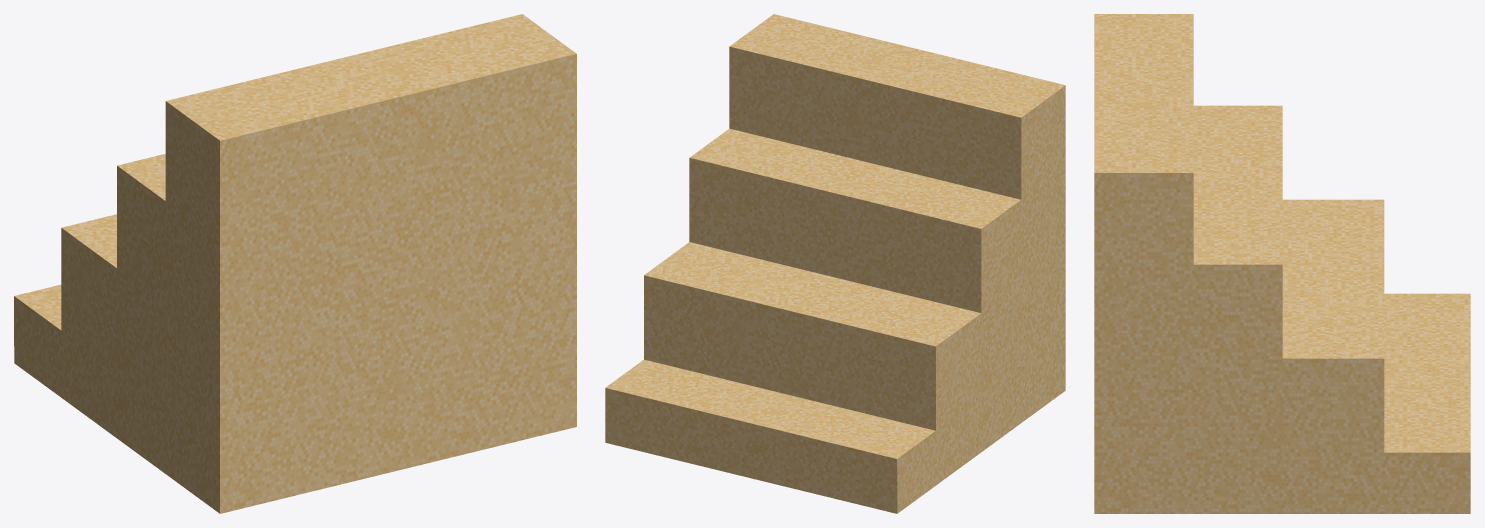
File: POL0510011.fbx
3 renders of one model, left to right at view 1: azimuth 30°, elevation 25°; view 2: azimuth 150°, elevation 25°; view 3: azimuth 270°, elevation 25°, orthographic. The views are drawn at different scales.
Parts seen in each view (by area): view 1: smPOL0510011; view 2: smPOL0510011; view 3: smPOL0510011.
Part boxes in pixels (x1,y1,x2,y2): smPOL0510011: (14, 14, 576, 513); smPOL0510011: (605, 14, 1065, 513); smPOL0510011: (1094, 14, 1470, 513).
Size of the model in its own units: 161 by 161 by 161.
Materials: 1 (1 with a texture image).
